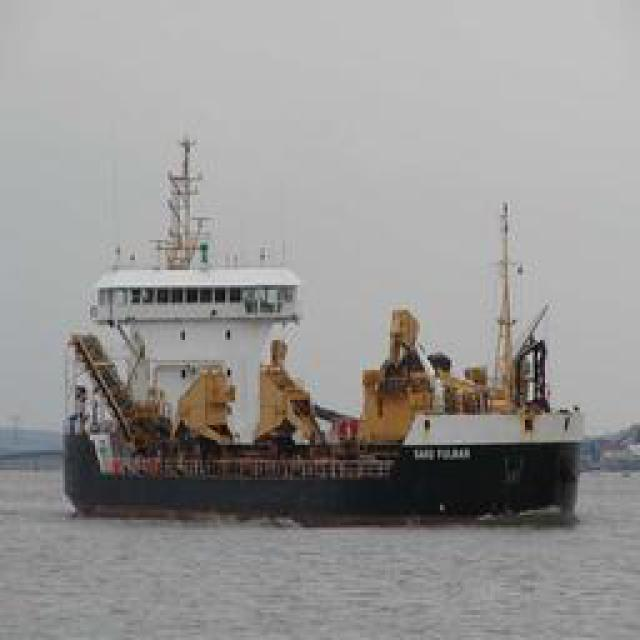Ship: (46, 225, 591, 530)
